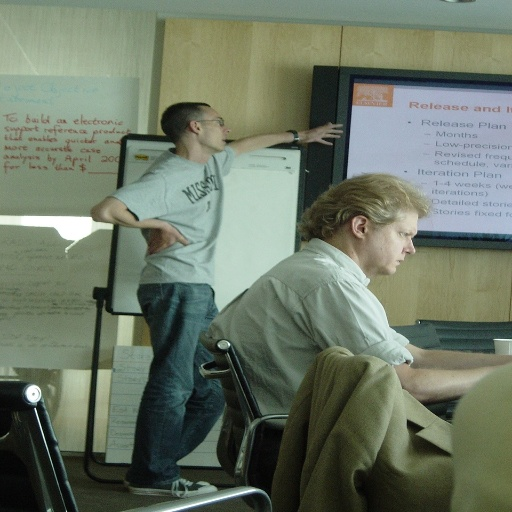hand: (144, 222, 190, 256), (304, 121, 344, 146)
